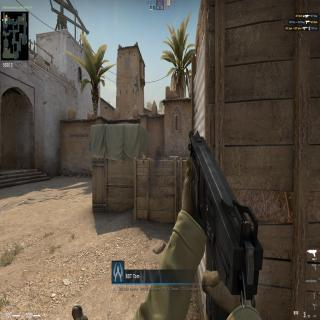T-Head: (157, 146, 159, 150)
